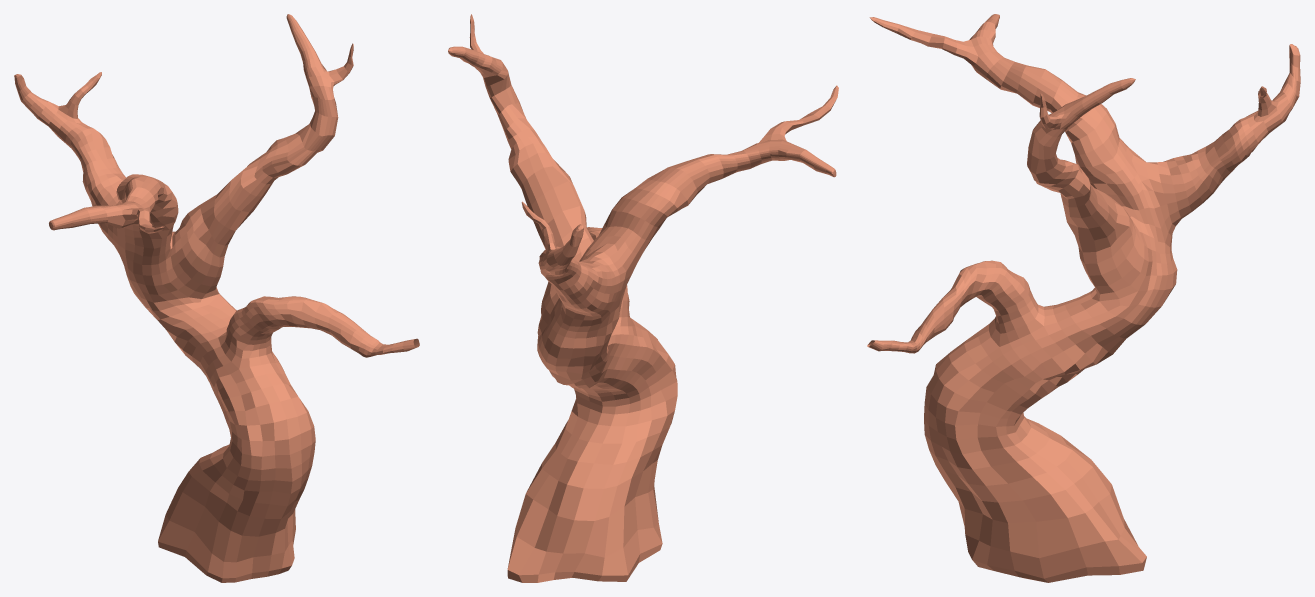
The model's file is low_tree.fbx.
3 views of the same model, side by side, from view 1: azimuth 30°, elevation 25°; view 2: azimuth 150°, elevation 25°; view 3: azimuth 270°, elevation 25° (orthographic). The views are drawn at different scales.
Parts seen in each view (by area): view 1: low_poly_tree; view 2: low_poly_tree; view 3: low_poly_tree.
Boxes of the visible parts, x1,y1,x2,y2 form: low_poly_tree: [14, 14, 419, 582]; low_poly_tree: [448, 14, 838, 582]; low_poly_tree: [867, 14, 1300, 582].
Size of the model in its own units: 432 by 622 by 461.
